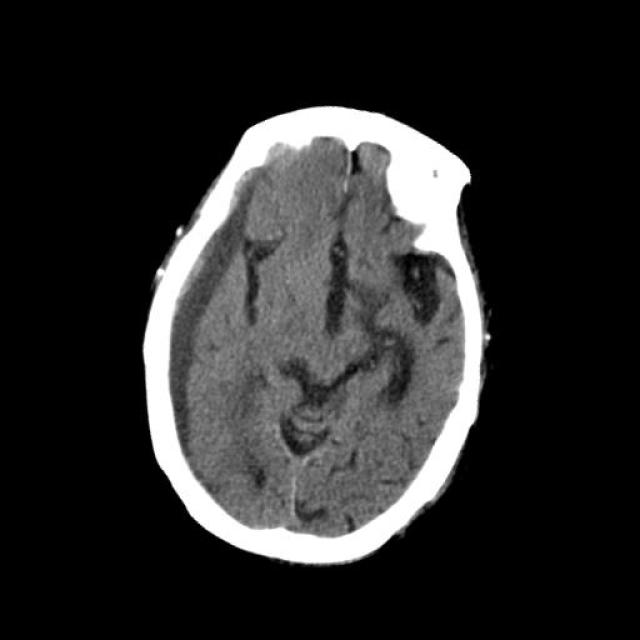Subdural: (106, 128, 283, 468)
